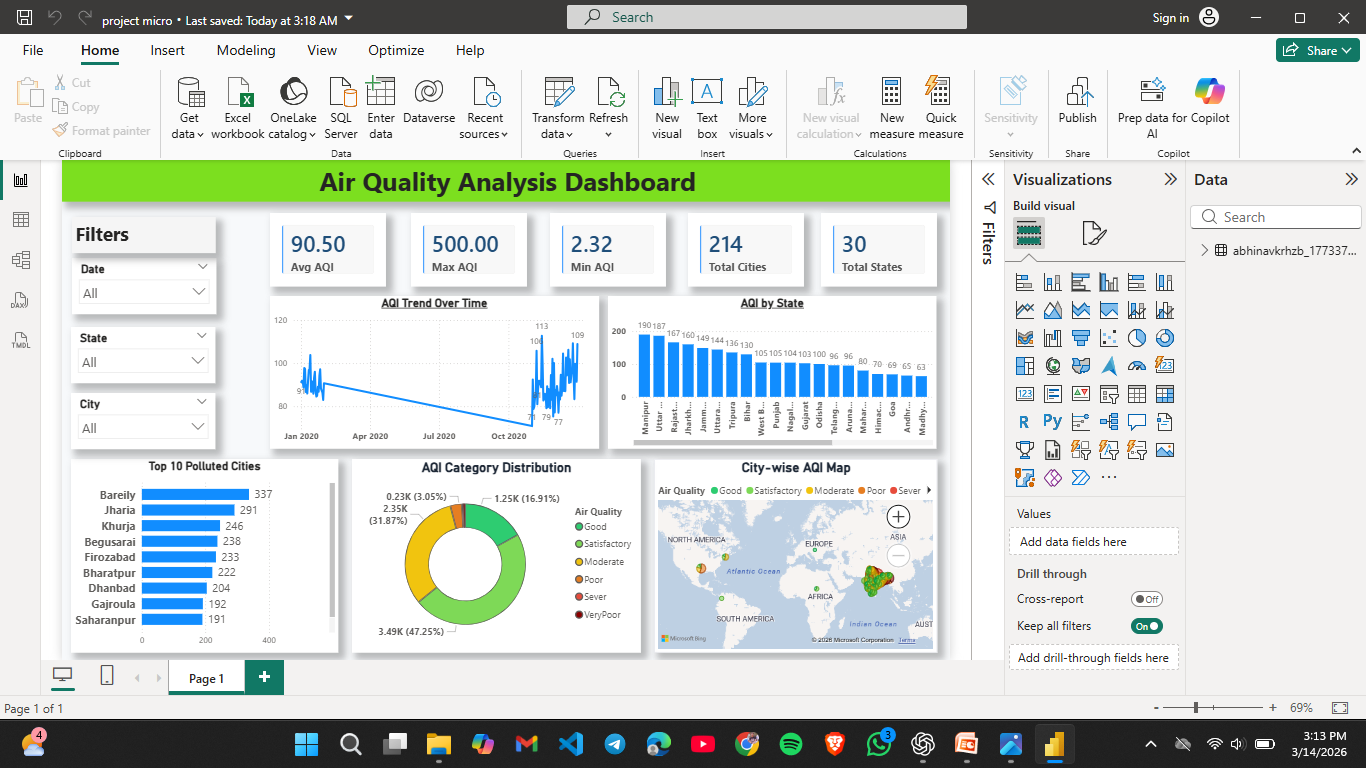

The dashboard page shown, as its layout file describes it:
{"tool":"powerbi","page":{"name":"Page 1","canvas":[1280,720],"ordinal":0},"visuals":[{"type":"textbox","box":[0,0,1280.2,60.5],"z":0},{"type":"cardVisual","fields":{"Data":["abhinavkrhzb_17733712429461927.Avg AQI"]},"box":[298.9,75.8,167.3,105.8],"z":1000},{"type":"cardVisual","fields":{"Data":["abhinavkrhzb_17733712429461927.Max AQI"]},"box":[502,75.8,167.3,105.8],"z":2000},{"type":"cardVisual","fields":{"Data":["abhinavkrhzb_17733712429461927.Min AQI"]},"box":[702.2,75.8,167.3,105.8],"z":3000},{"type":"cardVisual","fields":{"Data":["Count(abhinavkrhzb_17733712429461927.City)"]},"box":[901,75.8,167.3,105.8],"z":4000},{"type":"cardVisual","fields":{"Data":["Count(abhinavkrhzb_17733712429461927.State)"]},"box":[1092.6,75.8,167.3,105.8],"z":5000},{"type":"lineChart","title":"AQI Trend Over Time","fields":{"Y":["Avg(abhinavkrhzb_17733712429461927.AQI Value)"],"Category":["abhinavkrhzb_17733712429461927.Date.Variation.Date Hierarchy.Year","abhinavkrhzb_17733712429461927.Date.Variation.Date Hierarchy.Month","abhinavkrhzb_17733712429461927.Date.Variation.Date Hierarchy.Day"]},"box":[299,196.5,473.7,220.1],"z":6000},{"type":"clusteredColumnChart","title":"AQI by State","fields":{"Category":["abhinavkrhzb_17733712429461927.State"],"Y":["abhinavkrhzb_17733712429461927.Avg AQI"]},"box":[786.6,195.9,473.4,220.2],"z":7000},{"type":"map","title":"City-wise AQI Map","fields":{"Category":["abhinavkrhzb_17733712429461927.City"],"Size":["Avg(abhinavkrhzb_17733712429461927.AQI Value)"],"Series":["abhinavkrhzb_17733712429461927.Air Quality"]},"box":[852.4,430.5,407.6,278.9],"z":8000},{"type":"clusteredBarChart","title":"Top 10 Polluted Cities","fields":{"Category":["abhinavkrhzb_17733712429461927.City"],"Y":["Avg(abhinavkrhzb_17733712429461927.AQI Value)"]},"box":[12.9,430.5,384.7,278.9],"z":9000},{"type":"donutChart","title":"AQI Category Distribution","fields":{"Y":["CountNonNull(abhinavkrhzb_17733712429461927.Air Quality)"],"Category":["abhinavkrhzb_17733712429461927.Air Quality"]},"box":[417.6,430.5,416.2,278.9],"z":10000},{"type":"slicer","fields":{"Values":["abhinavkrhzb_17733712429461927.Date.Variation.Date Hierarchy.Year","abhinavkrhzb_17733712429461927.Date.Variation.Date Hierarchy.Month","abhinavkrhzb_17733712429461927.Date.Variation.Date Hierarchy.Day"]},"box":[15.1,141.1,208.3,80.6],"z":11000},{"type":"slicer","fields":{"Values":["abhinavkrhzb_17733712429461927.State"]},"box":[13.4,240.2,208.3,80.6],"z":12000},{"type":"slicer","fields":{"Values":["abhinavkrhzb_17733712429461927.City"]},"box":[13.4,336,208.3,80.6],"z":13000},{"type":"textbox","box":[14.4,82.1,207.4,51.8],"z":14000}]}

Visuals, with their boxes on the page's 1280x720 design canvas (x1, y1, x2, y2). These are canvas units, not pixel positions in the 1366x768 screenshot, which may show the page scaled, cropped or inside an application window:
textbox: (0,0,1280,60)
cardVisual - abhinavkrhzb_17733712429461927.Avg AQI: (299,76,466,182)
cardVisual - abhinavkrhzb_17733712429461927.Max AQI: (502,76,669,182)
cardVisual - abhinavkrhzb_17733712429461927.Min AQI: (702,76,870,182)
cardVisual - Count(abhinavkrhzb_17733712429461927.City): (901,76,1068,182)
cardVisual - Count(abhinavkrhzb_17733712429461927.State): (1093,76,1260,182)
"AQI Trend Over Time" lineChart: (299,196,773,417)
"AQI by State" clusteredColumnChart: (787,196,1260,416)
"City-wise AQI Map" map: (852,430,1260,709)
"Top 10 Polluted Cities" clusteredBarChart: (13,430,398,709)
"AQI Category Distribution" donutChart: (418,430,834,709)
slicer - abhinavkrhzb_17733712429461927.Date.Variation.Date Hierarchy.Year x abhinavkrhzb_17733712429461927.Date.Variation.Date Hierarchy.Month: (15,141,223,222)
slicer - abhinavkrhzb_17733712429461927.State: (13,240,222,321)
slicer - abhinavkrhzb_17733712429461927.City: (13,336,222,417)
textbox: (14,82,222,134)
